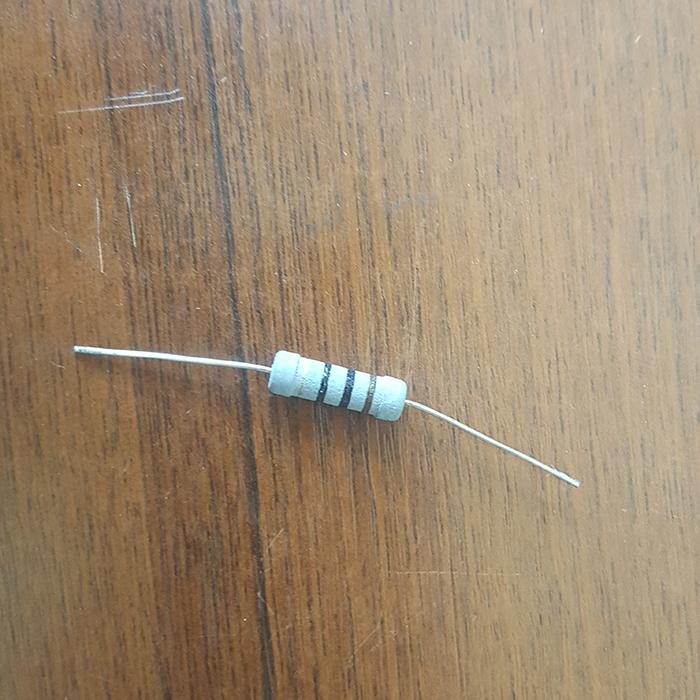resistor: (264, 347, 410, 420)
